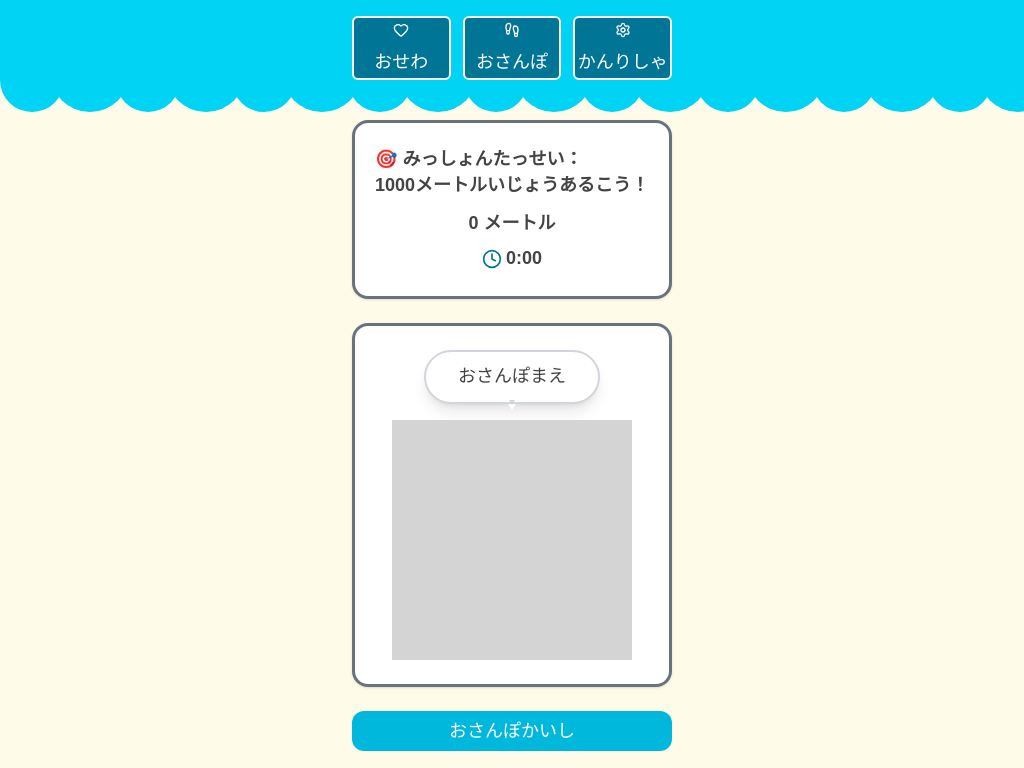
Test: 散歩フロー統合テスト › 認証済みユーザーの散歩開始から完了までの流れ
The image size is (1024, 768).
散歩開始ボタンをクリック
Click the button "おさんぽかいし" at (512, 731), box [352,711,672,751]
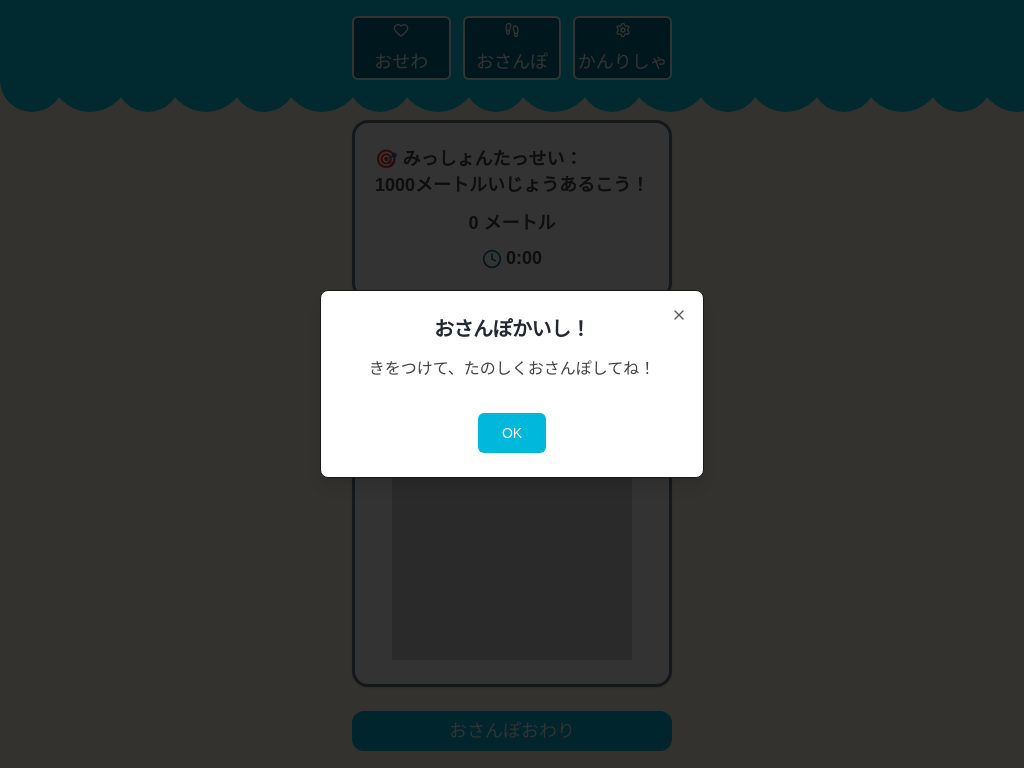
Check: the button "おせわ" is shown, box [352,16,451,80]
Check: the button "おさんぽおわり" is shown, box [352,711,672,751]
